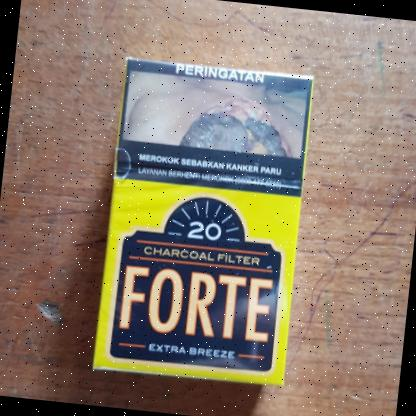bungkus rokok: (77, 50, 318, 396)
